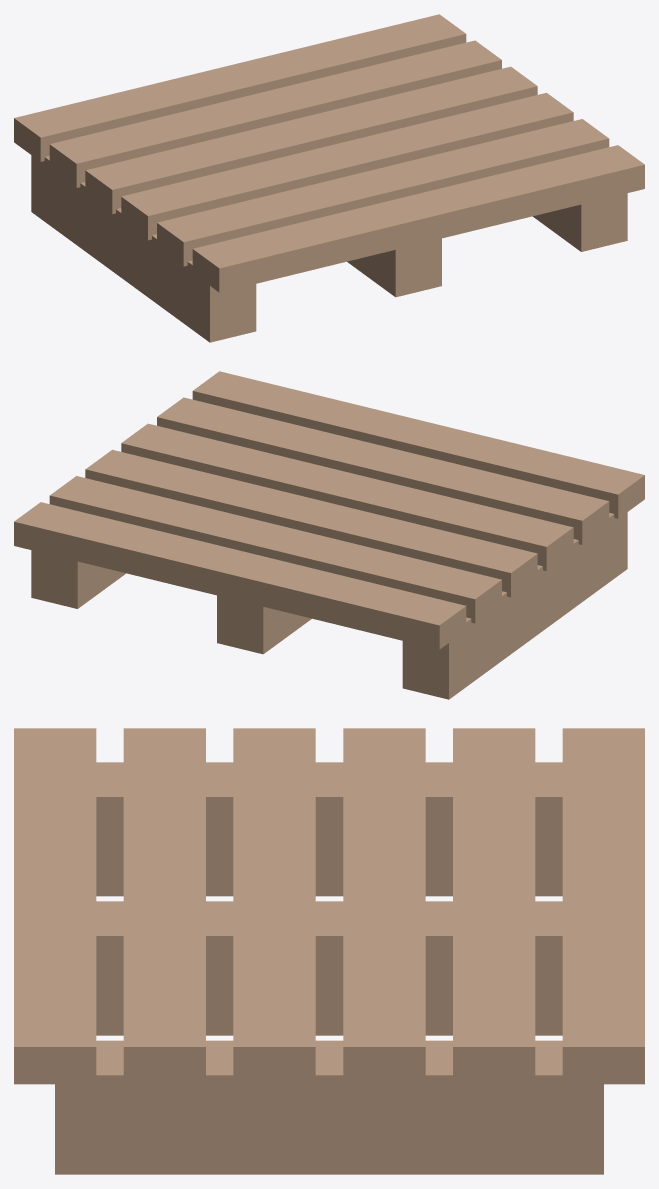
The model's file is pallet.glb.
3 views of the same model, one above another, from view 1: azimuth 30°, elevation 25°; view 2: azimuth 150°, elevation 25°; view 3: azimuth 270°, elevation 25° (orthographic). The views are drawn at different scales.
Parts seen in each view (by area): view 1: pallet_003, pallet_007, pallet_006, pallet_005, pallet_004, pallet_008, pallet_000, pallet_002, pallet_001; view 2: pallet_008, pallet_004, pallet_005, pallet_006, pallet_003, pallet_007, pallet_000, pallet_002, pallet_001; view 3: pallet_002, pallet_005, pallet_006, pallet_003, pallet_004, pallet_007, pallet_008, pallet_001, pallet_000.
Part boxes in pixels (x1=…): pallet_003: x1=192, y1=145, x2=644, y2=292; pallet_007: x1=49, y1=40, x2=501, y2=187; pallet_006: x1=85, y1=66, x2=537, y2=214; pallet_005: x1=121, y1=92, x2=573, y2=240; pallet_004: x1=157, y1=119, x2=609, y2=266; pallet_008: x1=14, y1=14, x2=466, y2=161; pallet_000: x1=31, y1=155, x2=256, y2=342; pallet_002: x1=533, y1=193, x2=627, y2=251; pallet_001: x1=347, y1=238, x2=441, y2=297; pallet_008: x1=14, y1=502, x2=466, y2=649; pallet_004: x1=157, y1=397, x2=609, y2=544; pallet_005: x1=121, y1=423, x2=573, y2=571; pallet_006: x1=85, y1=449, x2=537, y2=597; pallet_003: x1=192, y1=371, x2=644, y2=518; pallet_007: x1=49, y1=476, x2=501, y2=623; pallet_000: x1=402, y1=512, x2=627, y2=699; pallet_002: x1=31, y1=550, x2=125, y2=608; pallet_001: x1=217, y1=595, x2=311, y2=654; pallet_002: x1=55, y1=1040, x2=603, y2=1174; pallet_005: x1=233, y1=728, x2=315, y2=1084; pallet_006: x1=343, y1=728, x2=425, y2=1084; pallet_003: x1=14, y1=728, x2=96, y2=1084; pallet_004: x1=123, y1=728, x2=205, y2=1084; pallet_007: x1=453, y1=728, x2=535, y2=1084; pallet_008: x1=562, y1=728, x2=644, y2=1084; pallet_001: x1=96, y1=901, x2=562, y2=1035; pallet_000: x1=96, y1=762, x2=562, y2=896.
Bounding box in the file's own units: 1.1 × 0.21 × 0.92.
